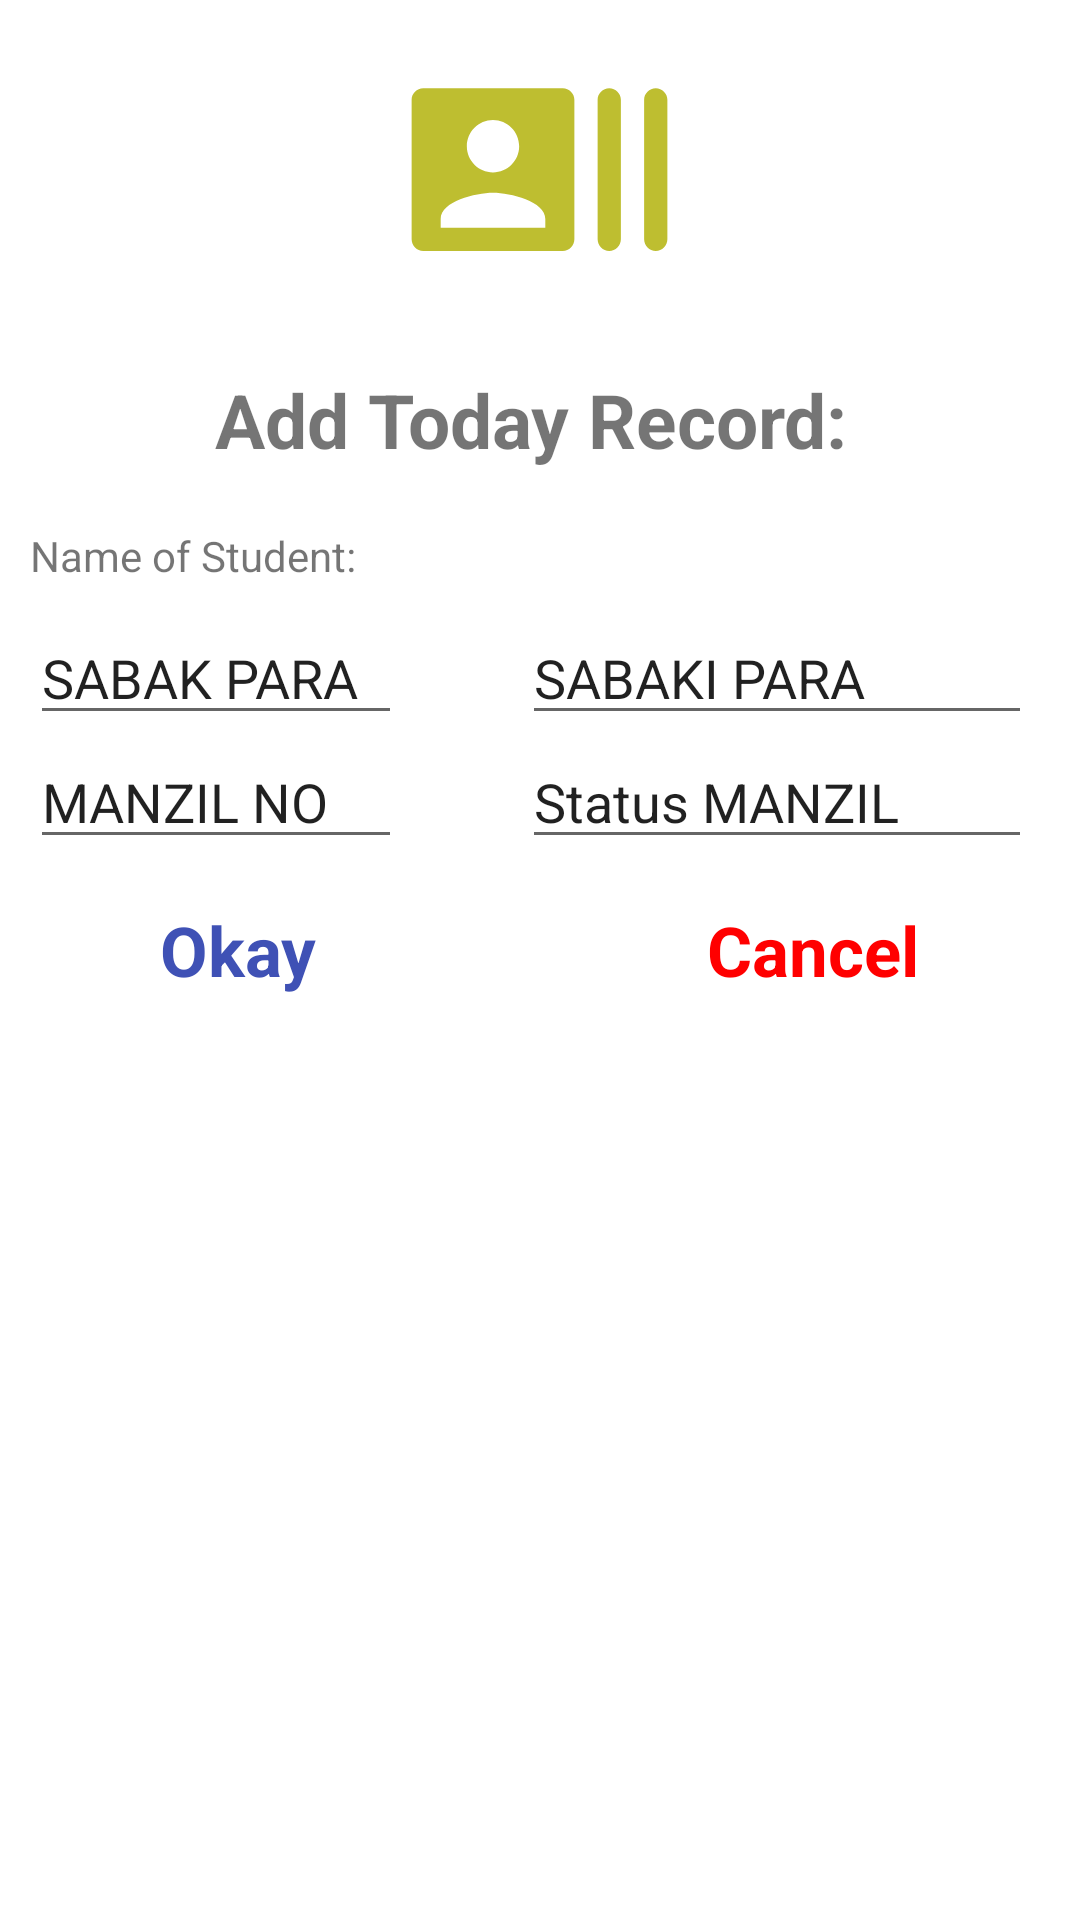

Screen size 1080px×1920px. Icon name, then its box in pixels as (x1, y1, x2, y2):
recent actors: (411, 88, 668, 251)
